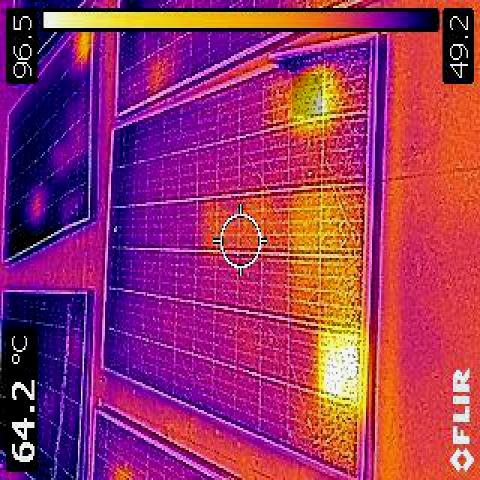fault: (319, 333, 357, 397), (292, 74, 322, 116)
